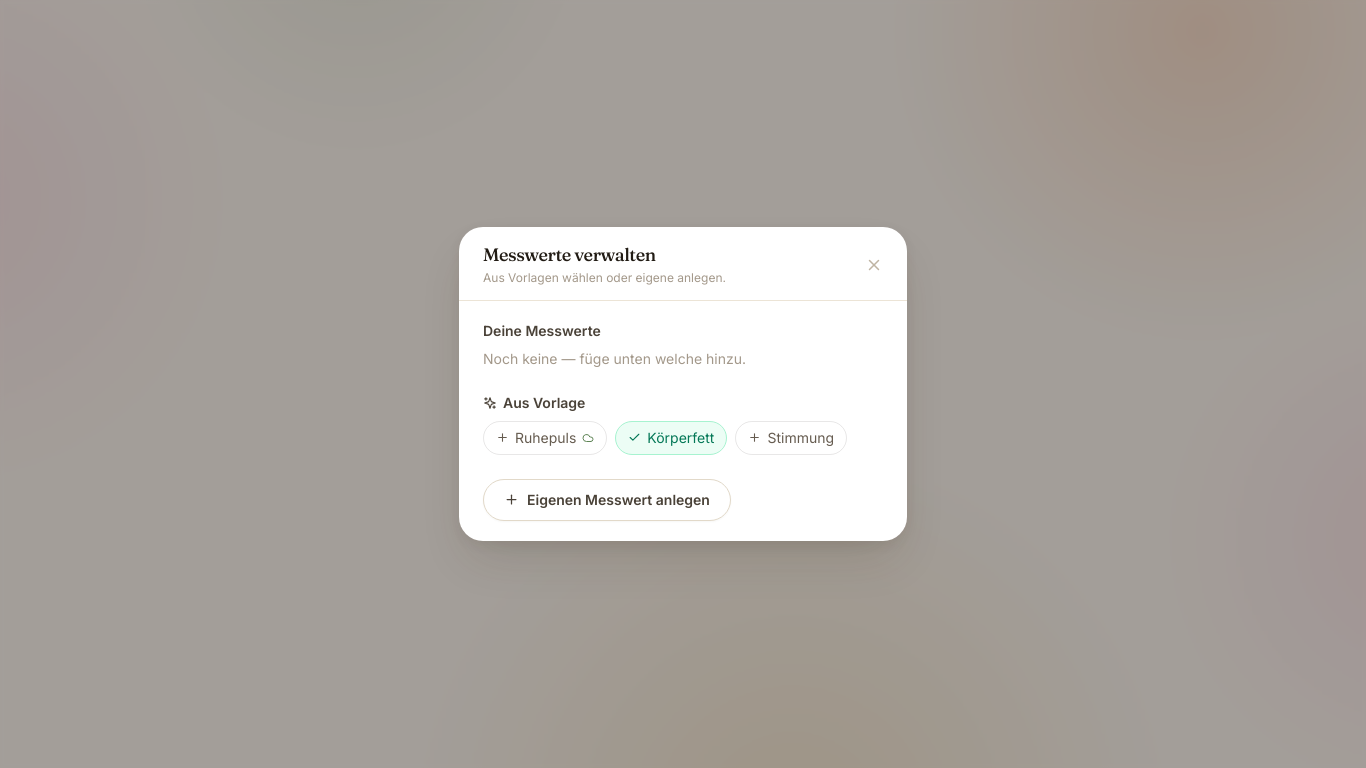
Test: ManageMetricsModal › shows a server error on custom create
Click the button "Eigenen Messwert anlegen" at (607, 500), box [483,479,731,521]
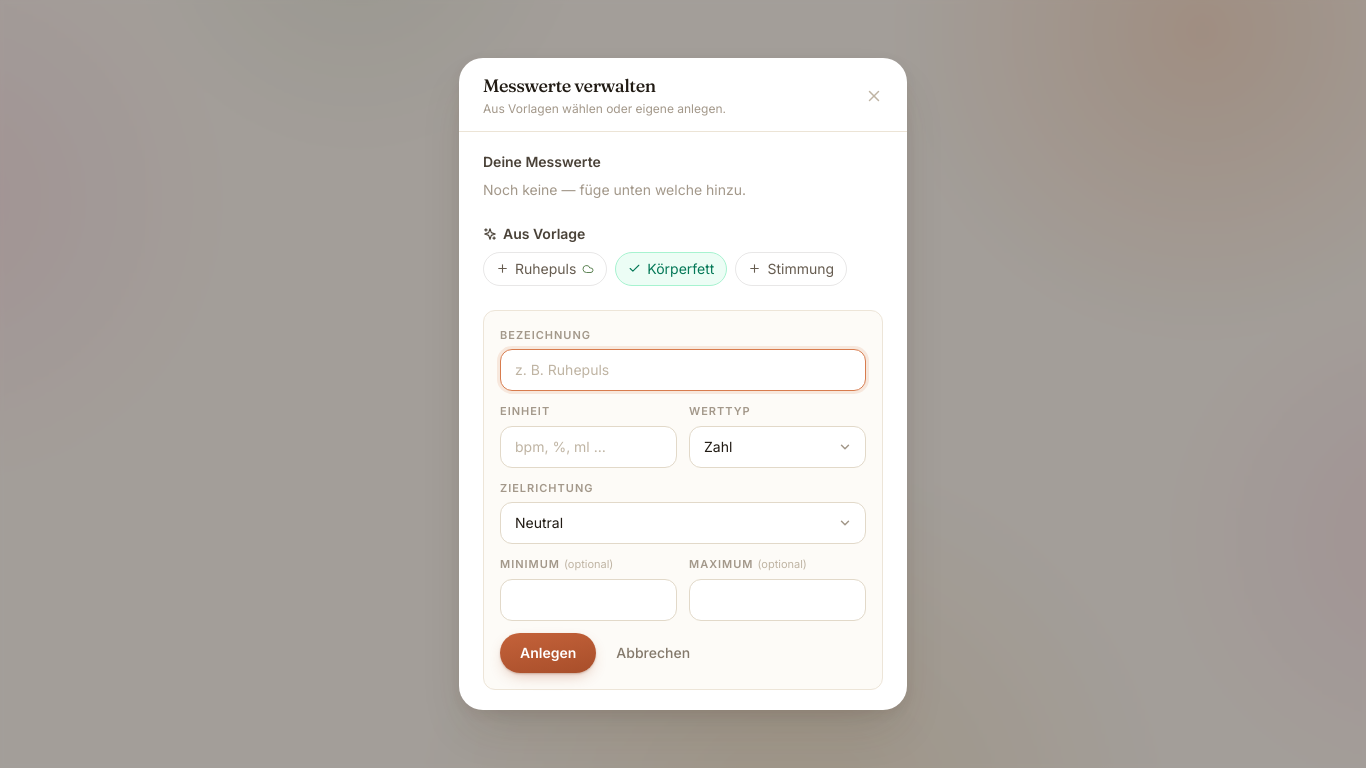
Type "X" into the field with placeholder "z. B. Ruhepuls" at (683, 370), box [500,349,866,391]
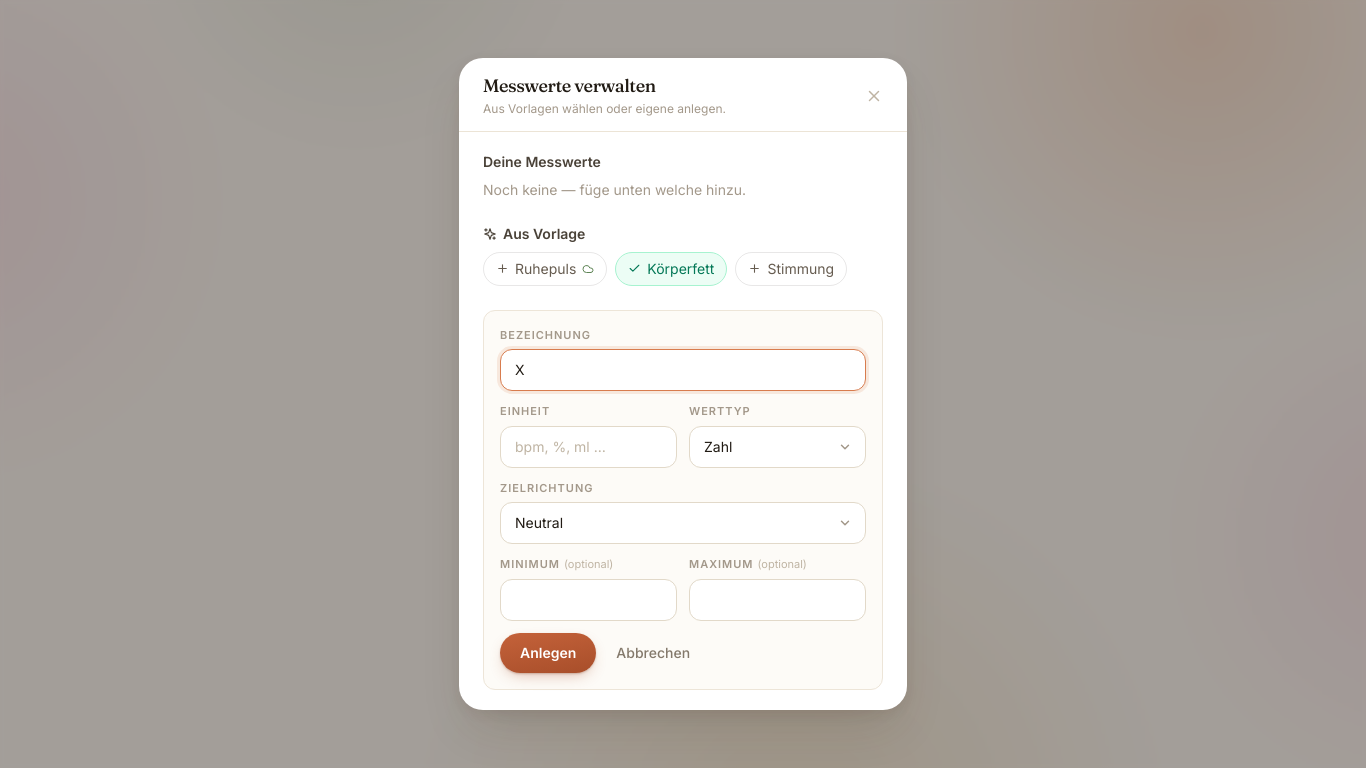
Click the button "Anlegen" at (548, 653), box [500,633,596,673]
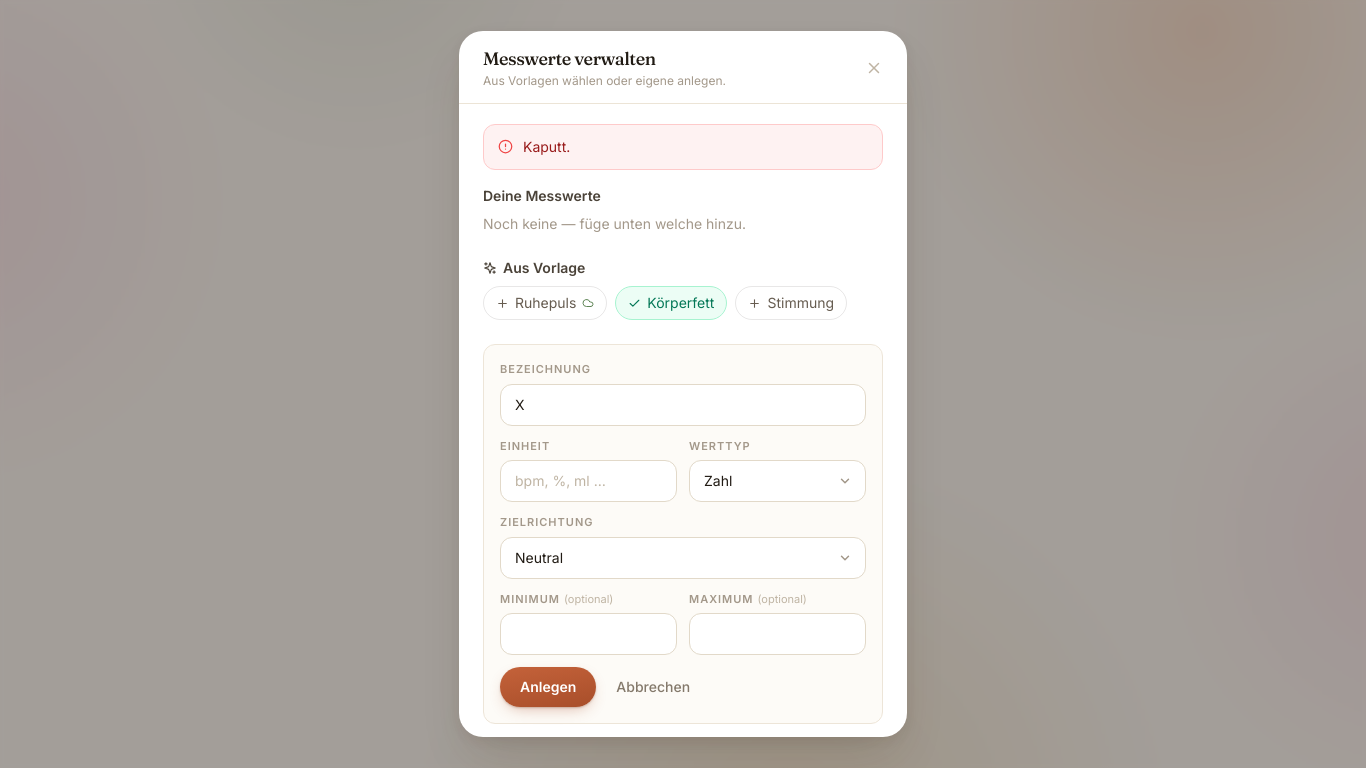
Check: the text "Kaputt." is shown, box [523,138,570,158]
